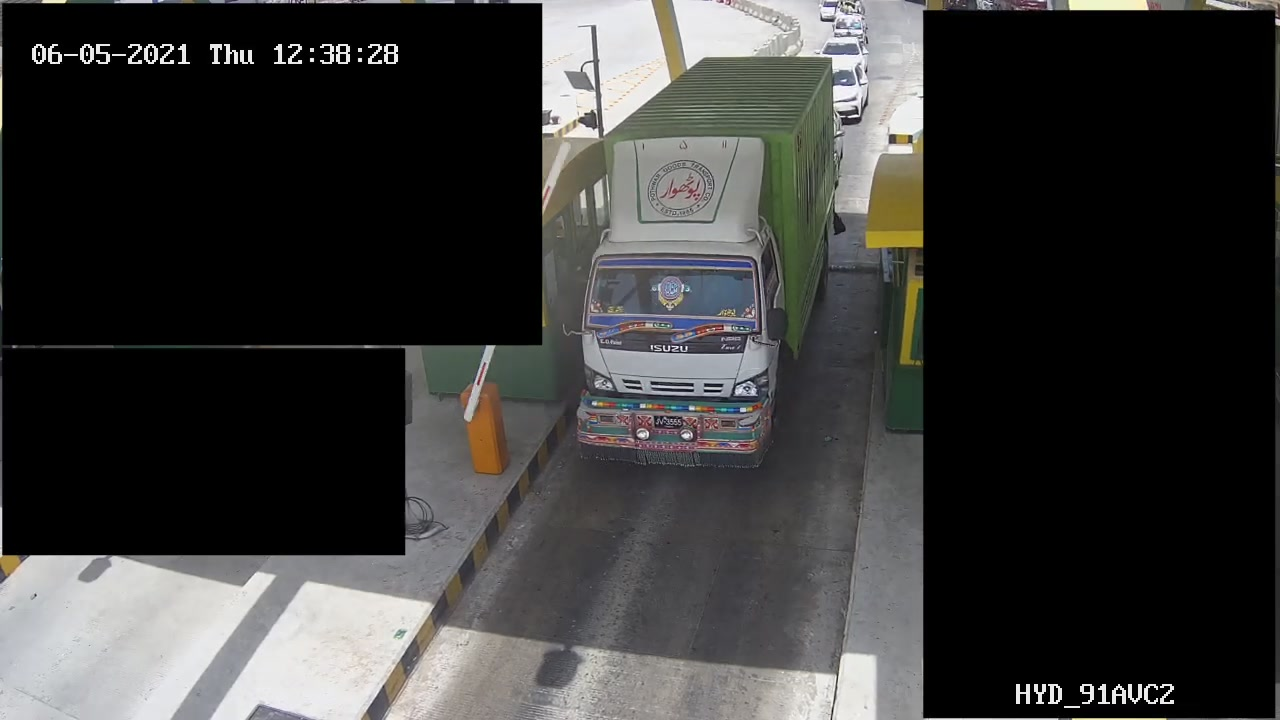F3: (578, 41, 842, 473)
